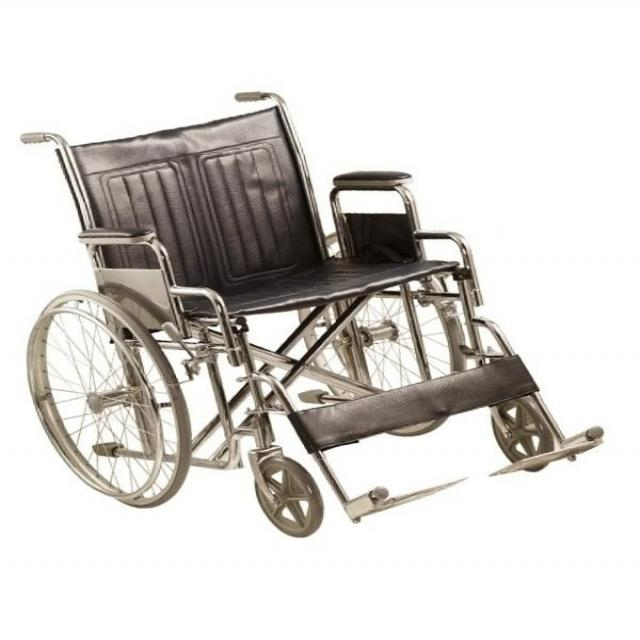wheelchair: (5, 72, 614, 550)
